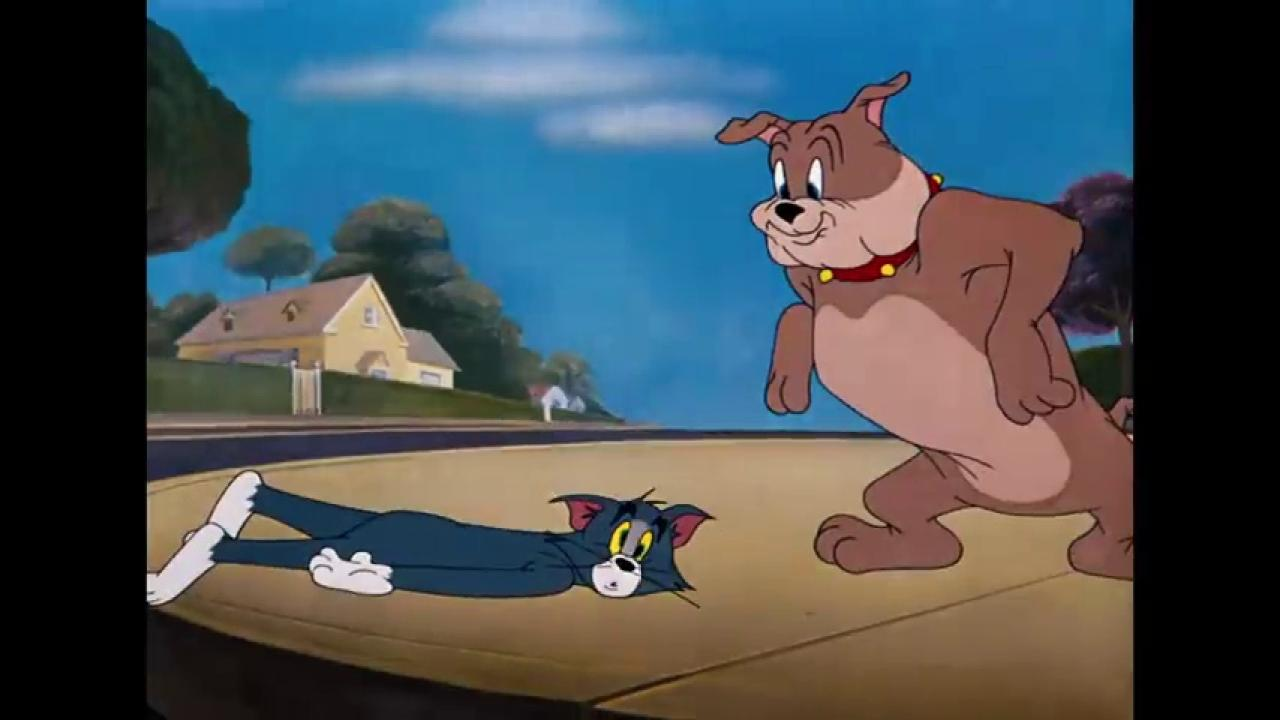Tom: (147, 466, 715, 607)
